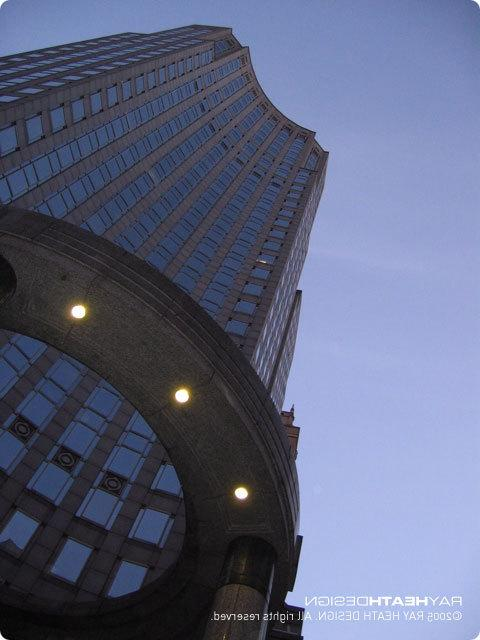building: (0, 1, 331, 640)
